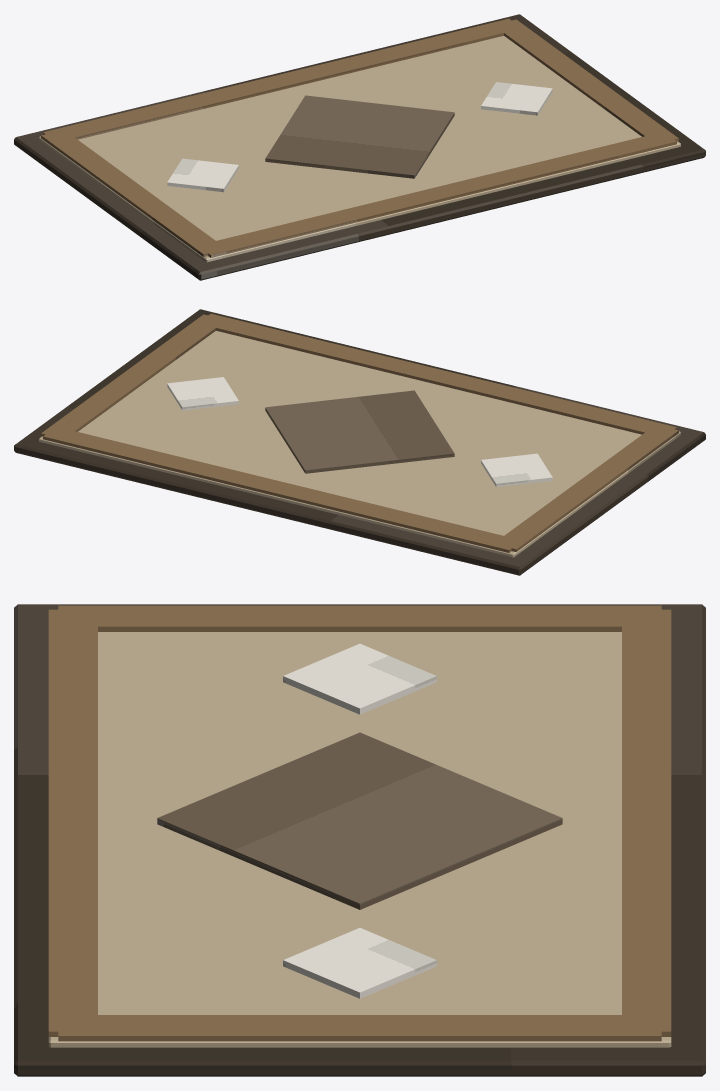
File: hotel_carpet_ivory.glb
3 renders of one model, top to bottom at view 1: azimuth 30°, elevation 25°; view 2: azimuth 150°, elevation 25°; view 3: azimuth 270°, elevation 25°, orthographic. The views are drawn at different scales.
Visible parts, largest first — view 1: HotelField, TextileBase, HotelMedallion, HotelBorderB, HotelBorderF, HotelBorderR, HotelBorderL, HotelCornerMark_0, HotelCornerMark_1; view 2: HotelField, TextileBase, HotelMedallion, HotelBorderF, HotelBorderB, HotelBorderR, HotelBorderL, HotelCornerMark_0, HotelCornerMark_1; view 3: HotelField, TextileBase, HotelMedallion, HotelBorderB, HotelBorderF, HotelBorderR, HotelBorderL, HotelCornerMark_0, HotelCornerMark_1.
Part boxes in pixels (box(x1,y1,x2,y2)): HotelField: box(39, 36, 680, 262); TextileBase: box(14, 14, 705, 280); HotelMedallion: box(265, 95, 454, 178); HotelBorderB: box(43, 18, 521, 141); HotelBorderF: box(198, 132, 676, 257); HotelBorderR: box(493, 19, 678, 143); HotelBorderL: box(41, 134, 223, 256); HotelCornerMark_0: box(167, 158, 238, 192); HotelCornerMark_1: box(481, 82, 552, 115); HotelField: box(39, 331, 680, 557); TextileBase: box(14, 309, 705, 575); HotelMedallion: box(265, 390, 454, 473); HotelBorderF: box(198, 313, 676, 436); HotelBorderB: box(43, 426, 521, 552); HotelBorderR: box(41, 314, 226, 438); HotelBorderL: box(495, 429, 678, 551); HotelCornerMark_0: box(481, 453, 552, 487); HotelCornerMark_1: box(167, 377, 238, 410); HotelField: box(48, 632, 671, 1047); TextileBase: box(14, 604, 705, 1076); HotelMedallion: box(157, 732, 562, 909); HotelBorderB: box(622, 609, 671, 1036); HotelBorderF: box(48, 609, 97, 1036); HotelBorderR: box(58, 1015, 661, 1041); HotelBorderL: box(58, 605, 661, 631); HotelCornerMark_0: box(283, 643, 436, 714); HotelCornerMark_1: box(283, 928, 436, 998).
Size of the model in its own units: 2.2 by 0.068 by 1.4.
Materials: 1 (1 with a texture image).
